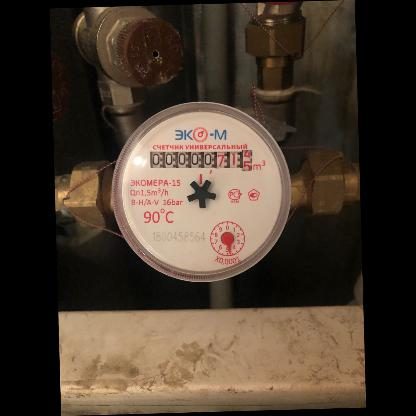digital_screen: (148, 150, 216, 171)
